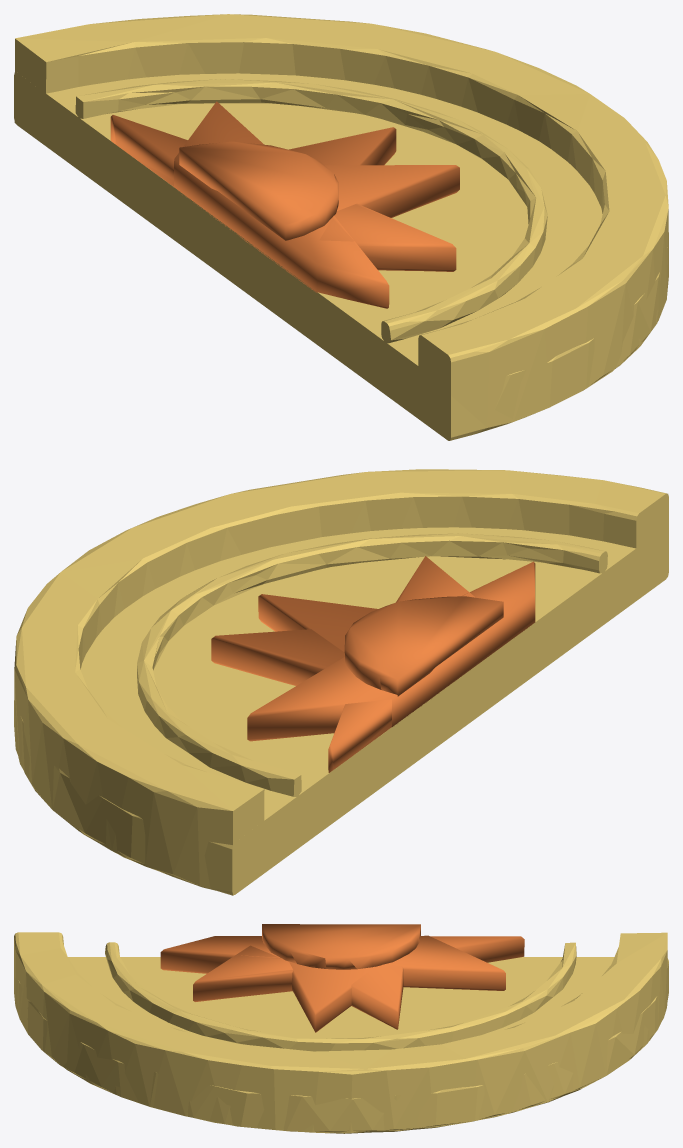
The model's file is medalhao_metade.fbx.
3 views of the same model, one above another, from view 1: azimuth 30°, elevation 25°; view 2: azimuth 150°, elevation 25°; view 3: azimuth 270°, elevation 25° (orthographic). The views are drawn at different scales.
Visible parts, largest first — view 1: Medalhao_Base.001, Desenho.001; view 2: Medalhao_Base.001, Desenho.001; view 3: Medalhao_Base.001, Desenho.001.
Boxes of the visible parts, left/top/right/bottom form: Medalhao_Base.001: left=14, top=14, right=668, bottom=440; Desenho.001: left=110, top=101, right=459, bottom=308; Medalhao_Base.001: left=14, top=469, right=668, bottom=895; Desenho.001: left=211, top=556, right=535, bottom=772; Medalhao_Base.001: left=14, top=932, right=668, bottom=1133; Desenho.001: left=160, top=924, right=524, bottom=1032.
Size of the model in its own units: 0.03 by 0.00739 by 0.06.
